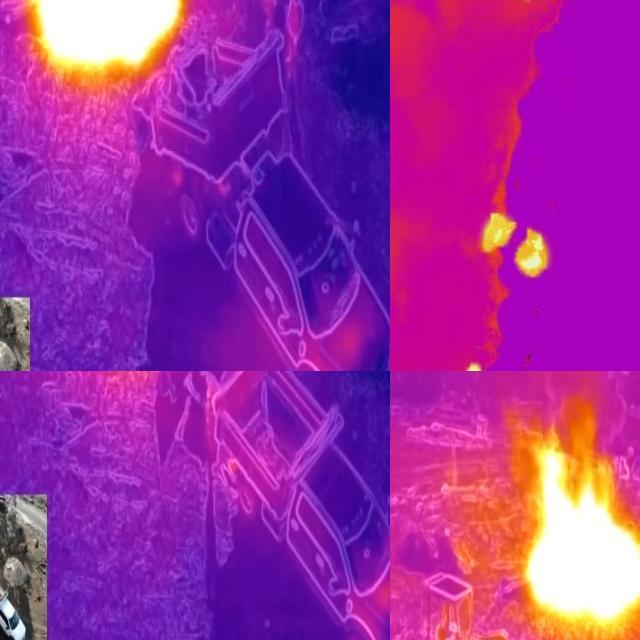fire: (527, 445, 640, 628), (27, 1, 188, 85), (472, 215, 568, 283)
